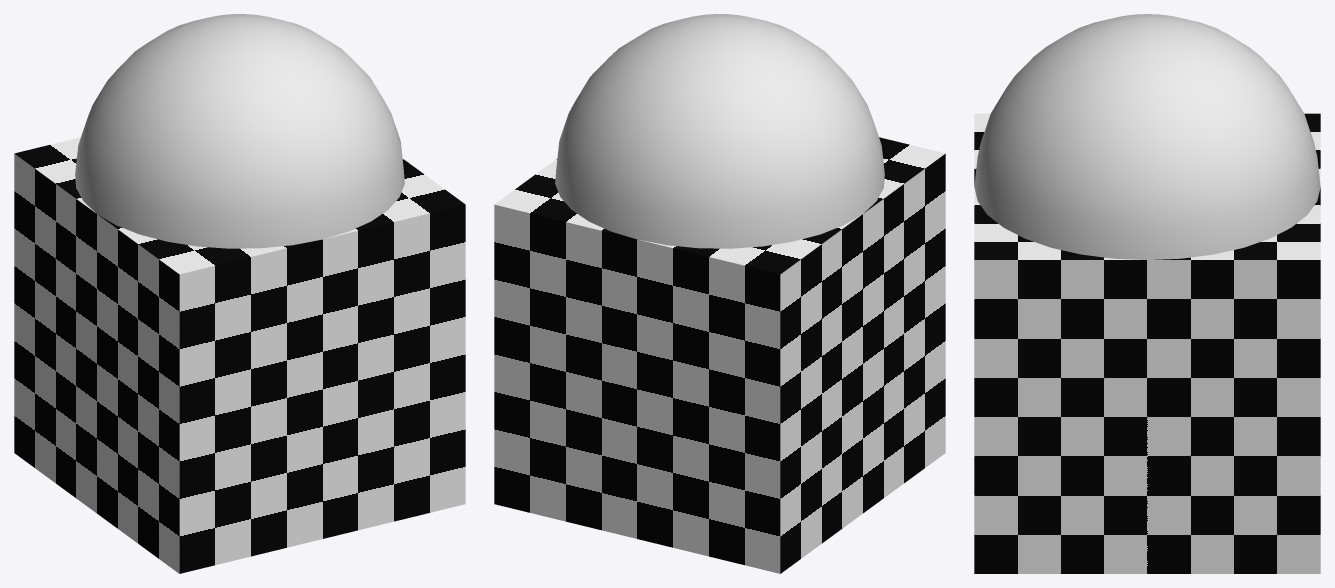
File: example_asset.gltf
3 renders of one model, left to right at view 1: azimuth 30°, elevation 25°; view 2: azimuth 150°, elevation 25°; view 3: azimuth 270°, elevation 25°, orthographic. The views are drawn at different scales.
Parts seen in each view (by area): view 1: Cube; view 2: Cube; view 3: Cube.
Part boxes in pixels (bbox=[...]): Cube: bbox=[14, 14, 465, 573]; Cube: bbox=[494, 14, 945, 573]; Cube: bbox=[974, 14, 1320, 573].
Size of the model in its own units: 2 by 3 by 2.
2 materials, 1 textured.
